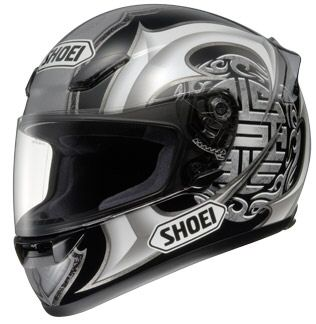helmet: (16, 10, 301, 277)
